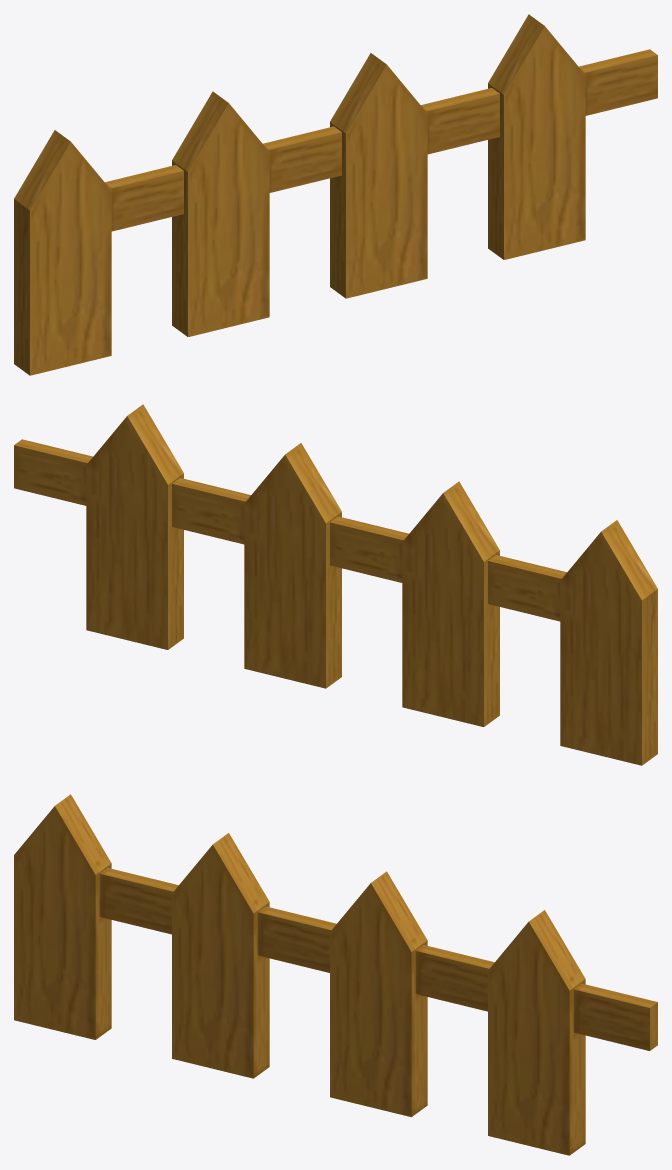
The model's file is Fence-optimized.glb.
3 views of the same model, one above another, from view 1: azimuth 30°, elevation 25°; view 2: azimuth 150°, elevation 25°; view 3: azimuth 330°, elevation 25° (orthographic).
Visible parts, largest first — view 1: Cube.013; view 2: Cube.013; view 3: Cube.013.
Part boxes in pixels (x1,y1,x2,y2): Cube.013: (14,14,657,375); Cube.013: (14,404,657,765); Cube.013: (14,794,657,1155).
Bounding box in the file's own units: 1.55 × 0.5274 × 0.0683.
1 material, 1 textured.
